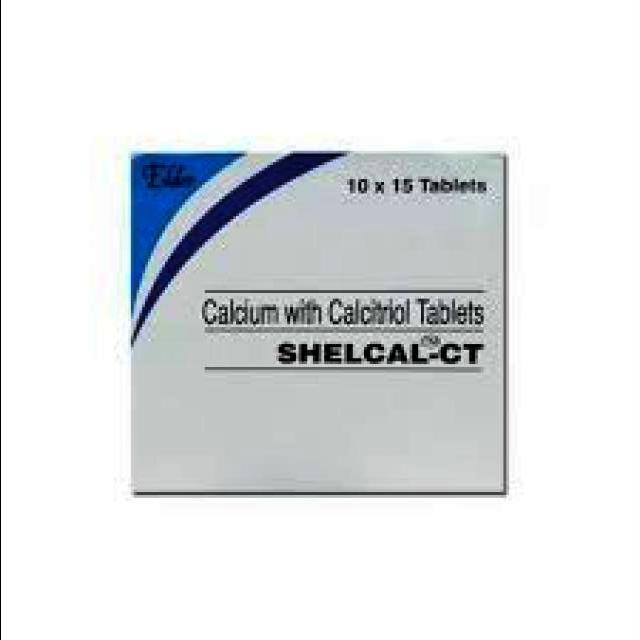authentic: (116, 144, 520, 507)
